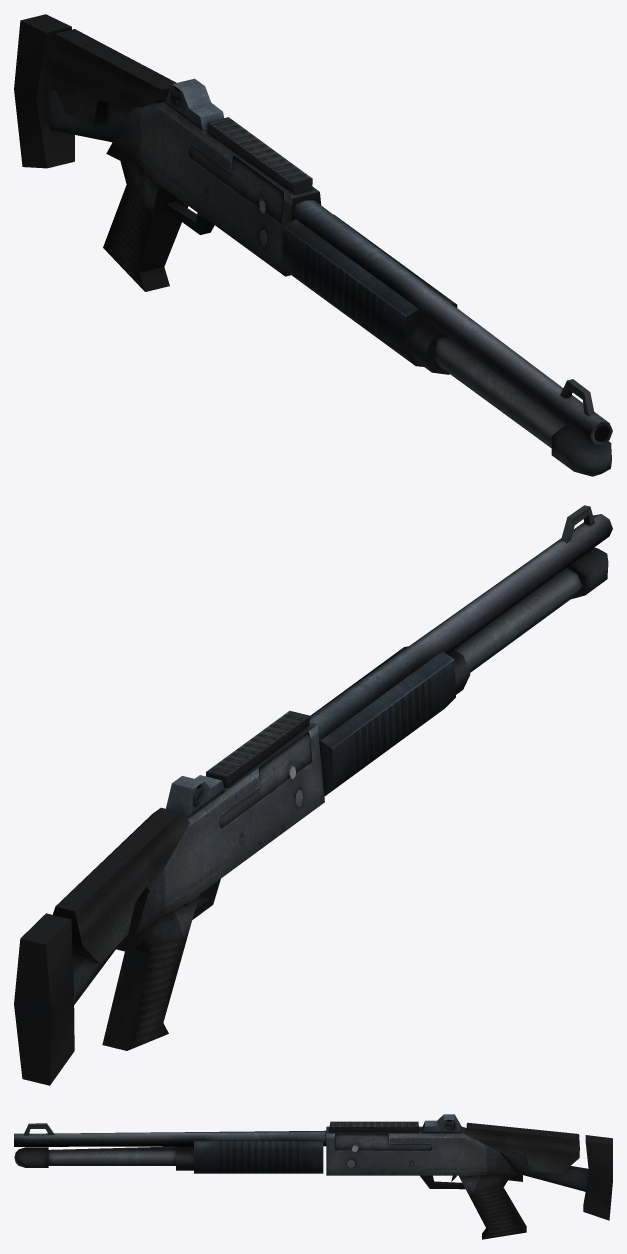
File: cs-weapon-xm1014-counter-strike-source.glb
3 renders of one model, top to bottom at view 1: azimuth 30°, elevation 25°; view 2: azimuth 150°, elevation 25°; view 3: azimuth 270°, elevation 25°, orthographic. The views are drawn at different scales.
Bounding box in the file's own units: 1.94 × 7.77 × 35.36.
1 material, 1 textured.
